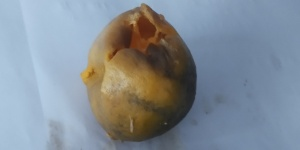BAD: (85, 2, 197, 141)
